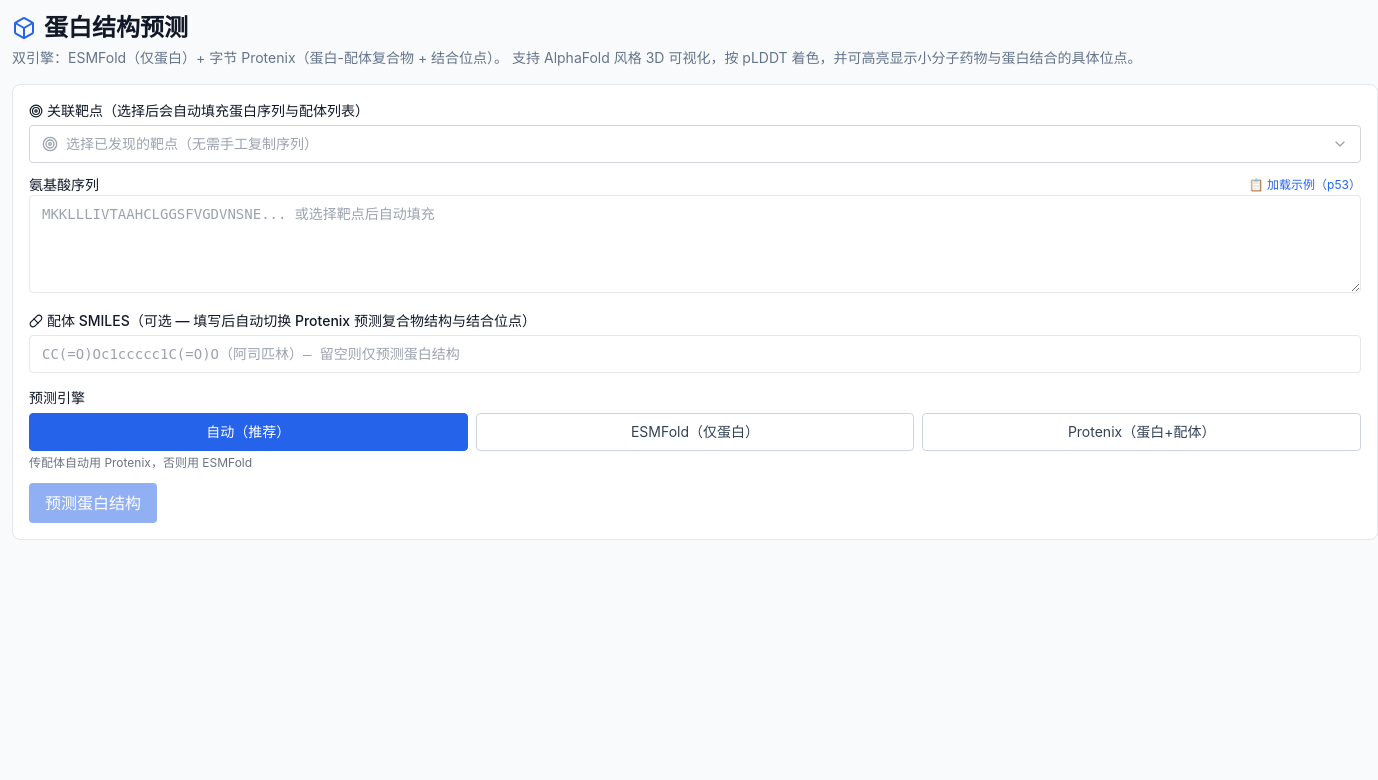
Test: StructuresPage › API 失败时显示错误提示
Type "MKKLLL" into the text box with placeholder "MKKLLLIVTAAHCLGGSFVGDVNSNE... 或选择靶点后自动填充" at (695, 244), box [29,195,1361,293]
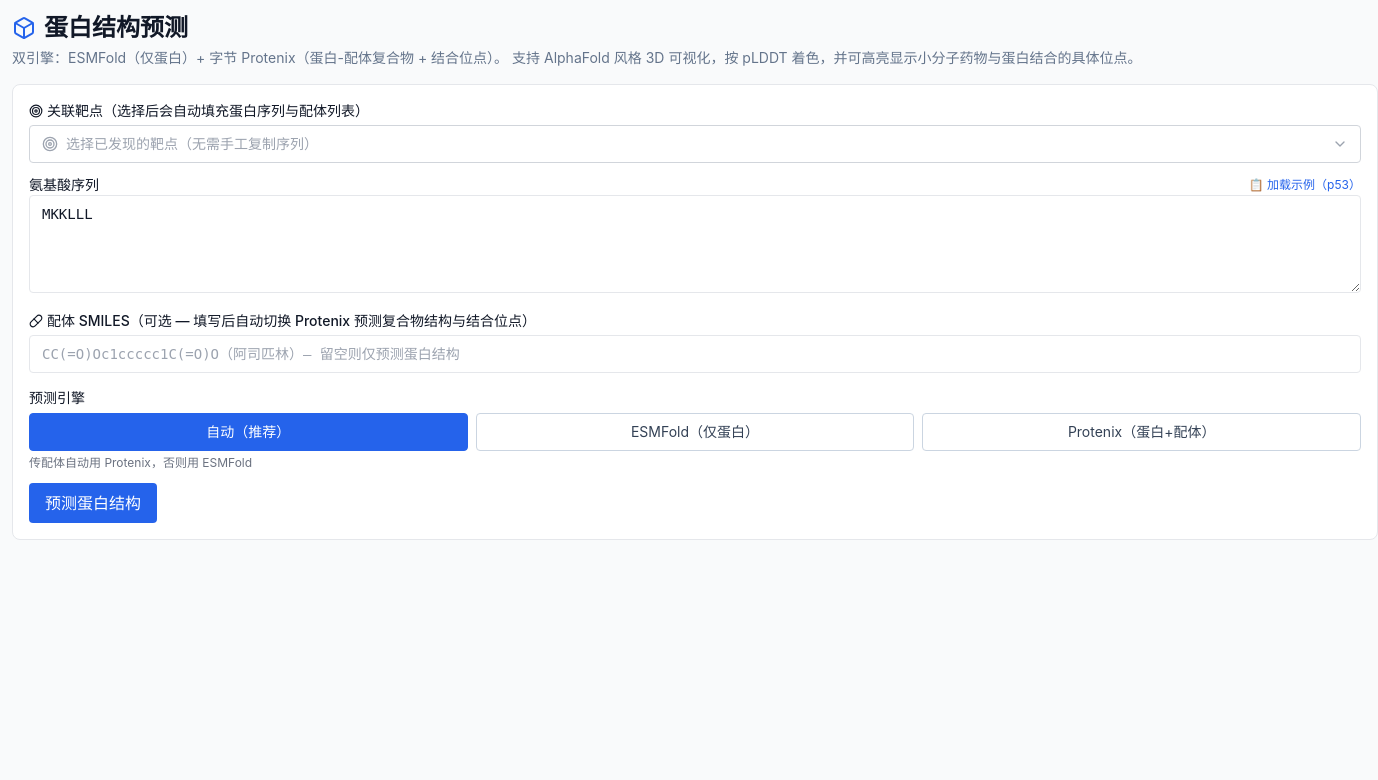
Click the button "预测蛋白结构" at (93, 503), box [29,483,157,523]
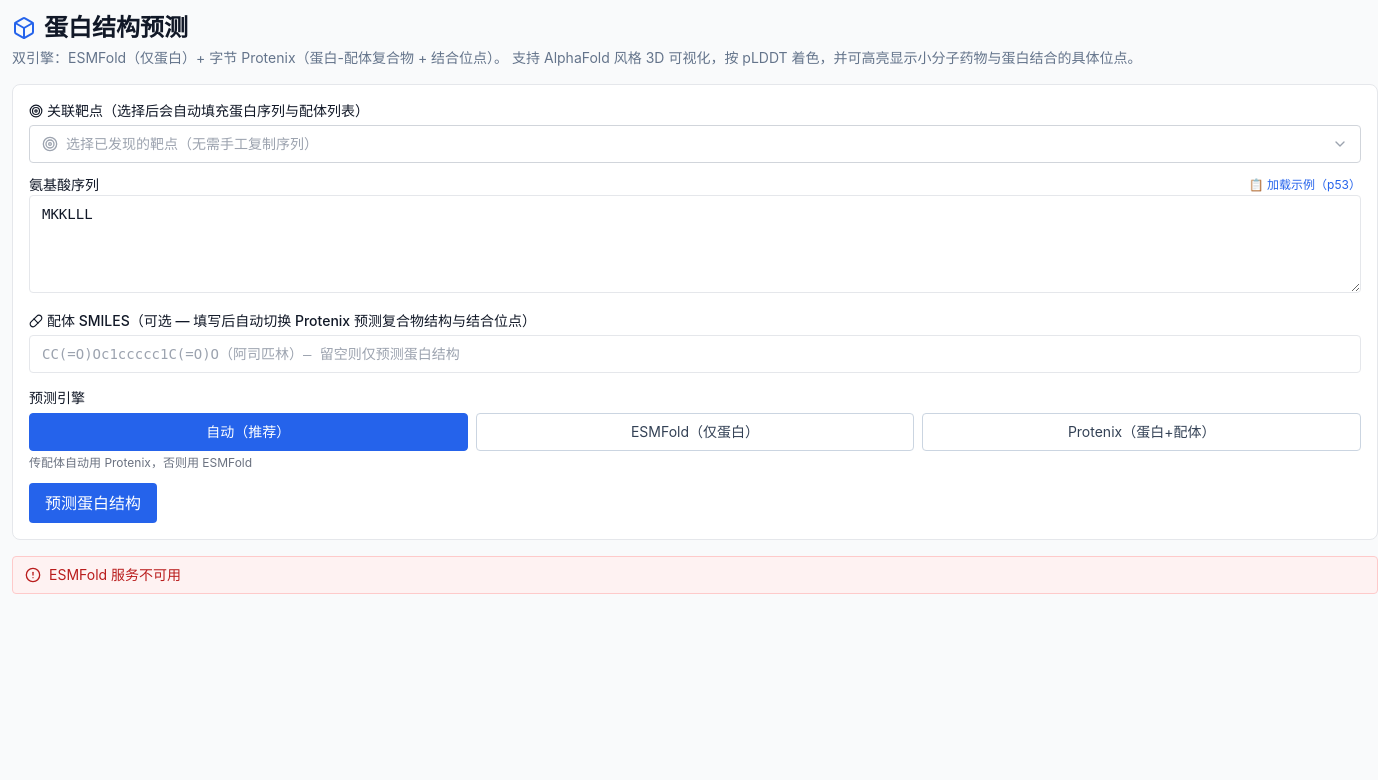
Now the text "ESMFold 服务不可用" is shown, box [49,565,181,585]
